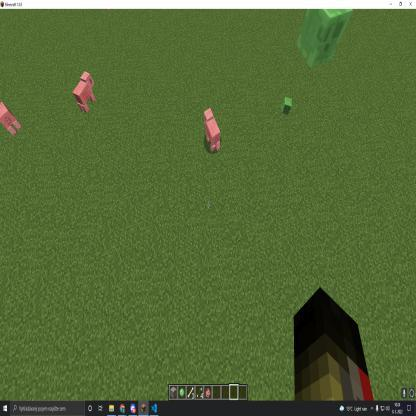pig: (72, 67, 98, 116), (1, 92, 24, 146), (200, 104, 223, 156)
